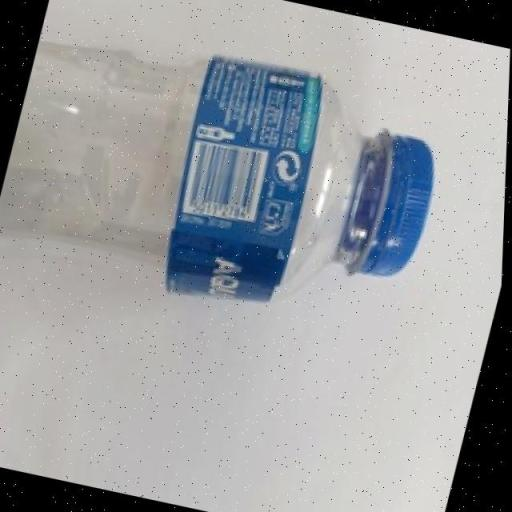plastic: (0, 14, 465, 340)
